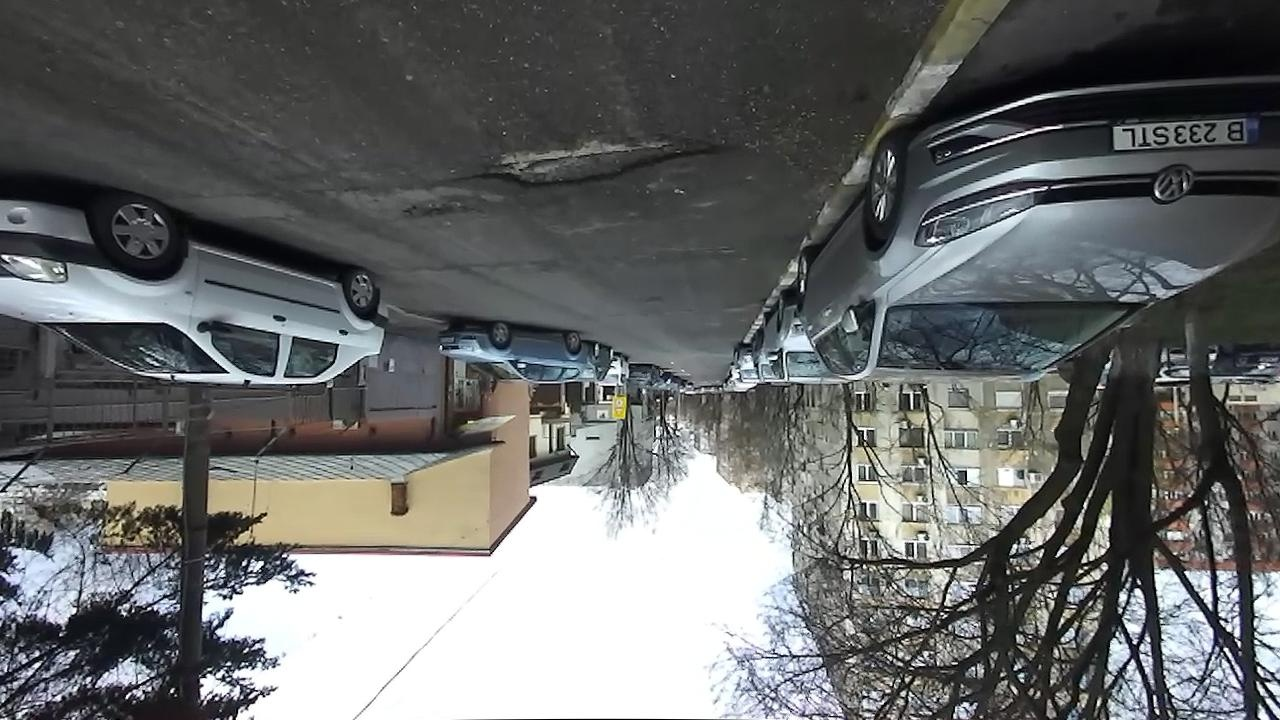pothole: (436, 133, 741, 192), (397, 198, 483, 228)
